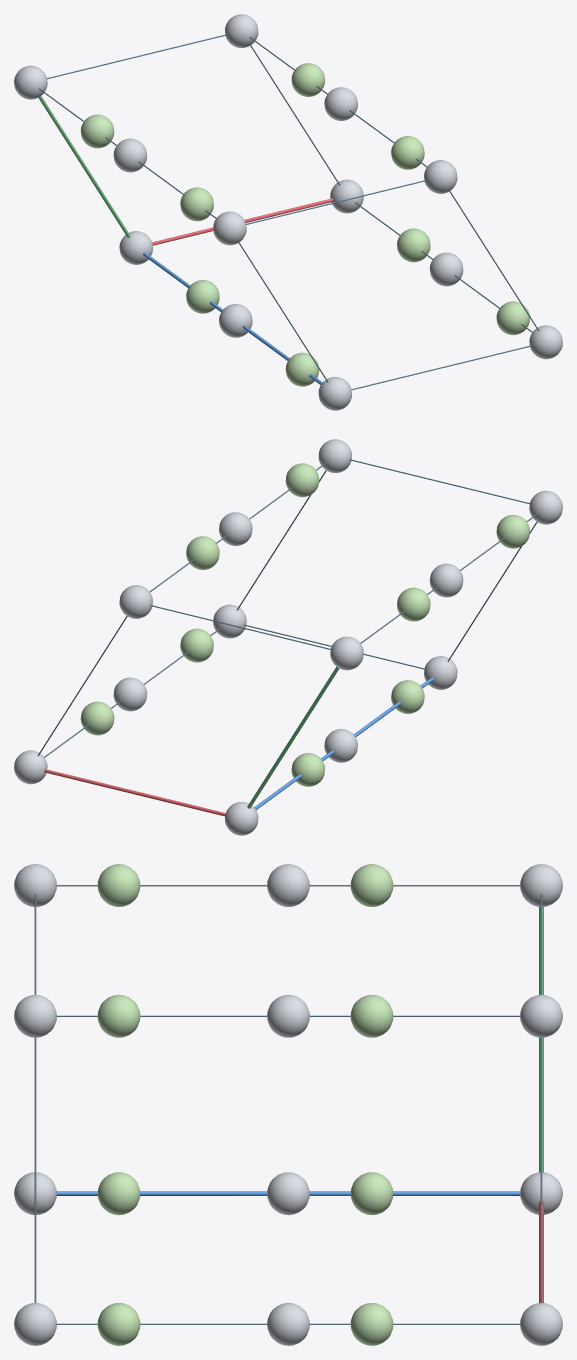
The model's file is chat-silver-iodide.glb.
3 views of the same model, one above another, from view 1: azimuth 30°, elevation 25°; view 2: azimuth 150°, elevation 25°; view 3: azimuth 270°, elevation 25° (orthographic). The views are drawn at different scales.
Visible parts, largest first — view 1: Ag · Ag · 1 (×12), I · I · 1 (×8), Ô mạng và các trục a, b, c; view 2: Ag · Ag · 1 (×12), I · I · 1 (×8), Ô mạng và các trục a, b, c; view 3: Ag · Ag · 1 (×12), I · I · 1 (×8), Ô mạng và các trục a, b, c.
Boxes of the visible parts, bbox=[...] form: Ag · Ag · 1 (×12): bbox=[14, 14, 562, 410]; I · I · 1 (×8): bbox=[80, 63, 529, 386]; Ô mạng và các trục a, b, c: bbox=[38, 34, 539, 390]; Ag · Ag · 1 (×12): bbox=[14, 439, 562, 835]; I · I · 1 (×8): bbox=[80, 463, 529, 786]; Ô mạng và các trục a, b, c: bbox=[37, 459, 537, 816]; Ag · Ag · 1 (×12): bbox=[14, 864, 562, 1345]; I · I · 1 (×8): bbox=[97, 864, 393, 1345]; Ô mạng và các trục a, b, c: bbox=[34, 885, 543, 1324].
Size of the model in its own units: 7.54 by 4.62 by 8.16.
